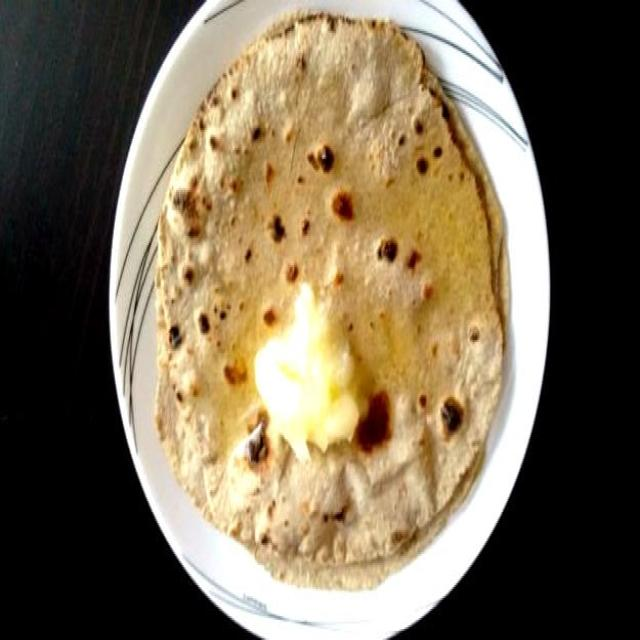roti: (156, 16, 515, 589)
